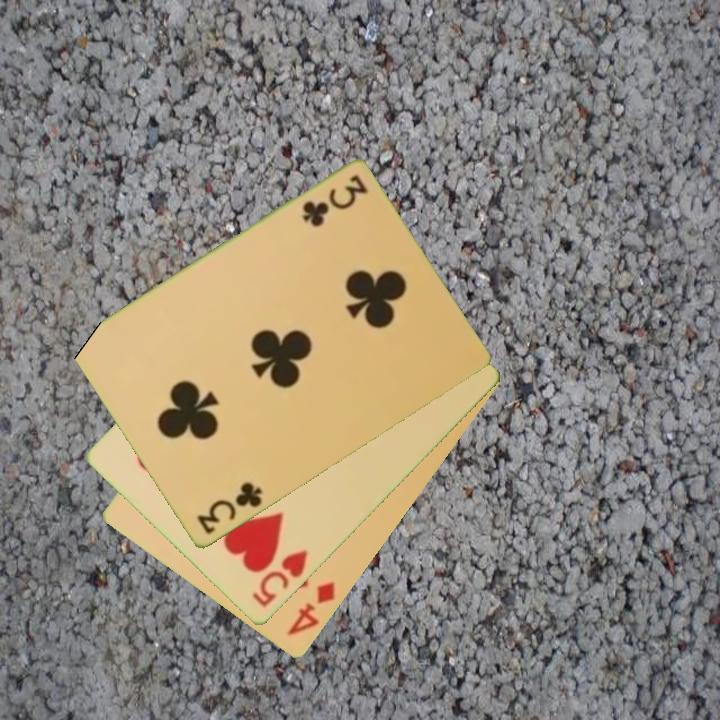3c: (193, 478, 265, 538), (298, 172, 371, 229)
4d: (284, 578, 339, 640)
5h: (248, 547, 311, 611)
